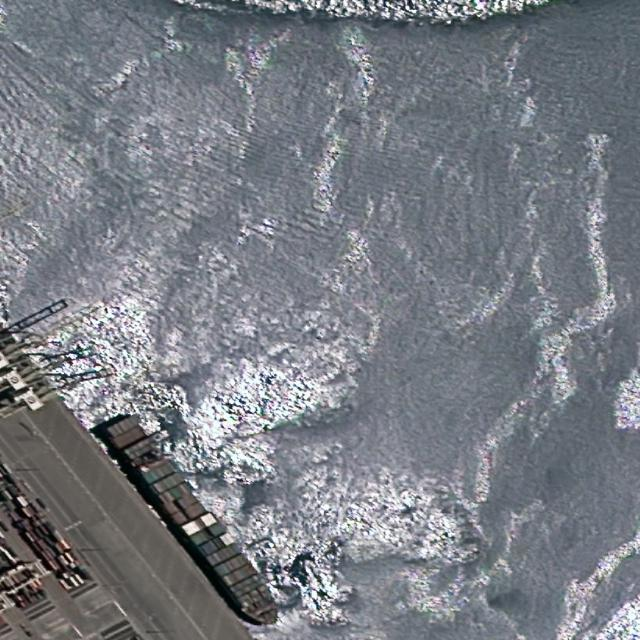Container Ship: (101, 411, 293, 635)
